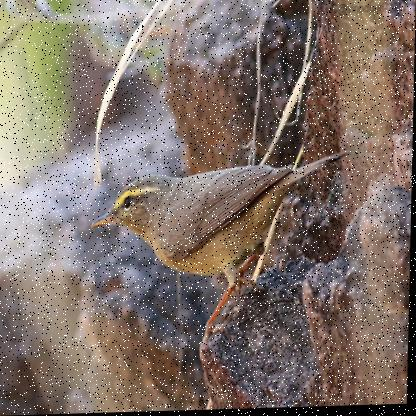Burung: (88, 163, 353, 335)
